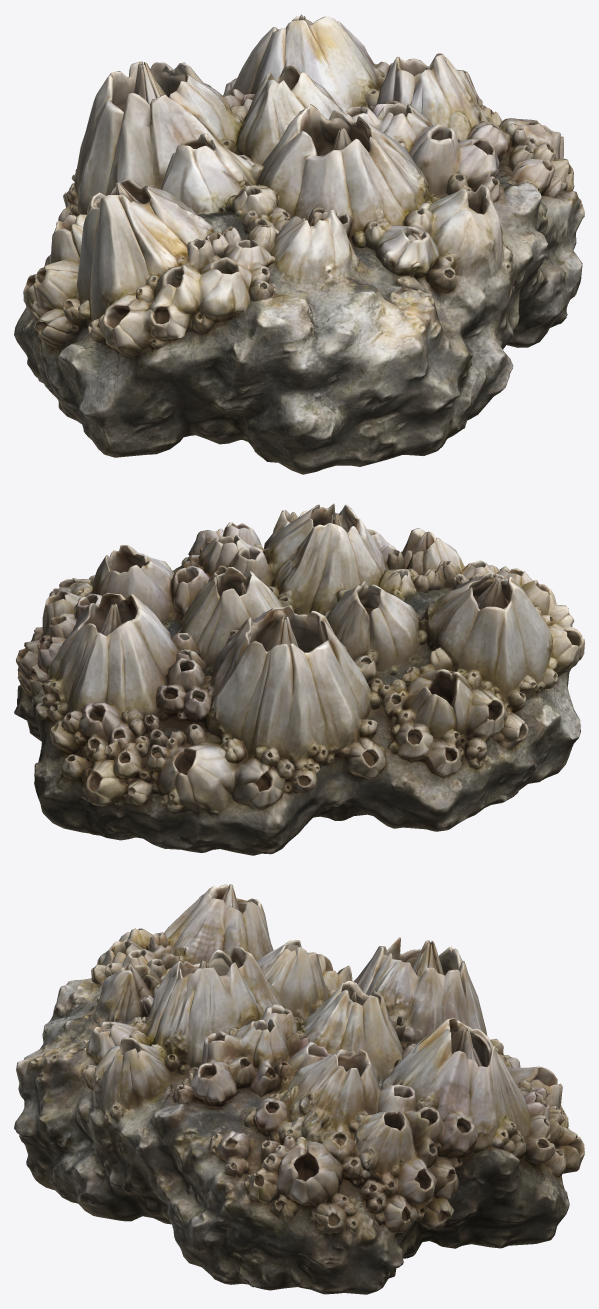
Rendered from T24_barnacle.glb.
3 renders of one model, top to bottom at view 1: azimuth 30°, elevation 25°; view 2: azimuth 150°, elevation 25°; view 3: azimuth 270°, elevation 25°, orthographic. The views are drawn at different scales.
Parts seen in each view (by area): view 1: tripo_node_674412bc-47e3-4075-97f8-6c215ee8a266; view 2: tripo_node_674412bc-47e3-4075-97f8-6c215ee8a266; view 3: tripo_node_674412bc-47e3-4075-97f8-6c215ee8a266.
Part boxes in pixels (x1=…): tripo_node_674412bc-47e3-4075-97f8-6c215ee8a266: x1=14, y1=14, x2=584, y2=474; tripo_node_674412bc-47e3-4075-97f8-6c215ee8a266: x1=14, y1=503, x2=584, y2=855; tripo_node_674412bc-47e3-4075-97f8-6c215ee8a266: x1=14, y1=884, x2=584, y2=1294.
Size of the model in its own units: 0.9642 by 0.4455 by 0.9794.
Materials: 1 (1 with a texture image).
